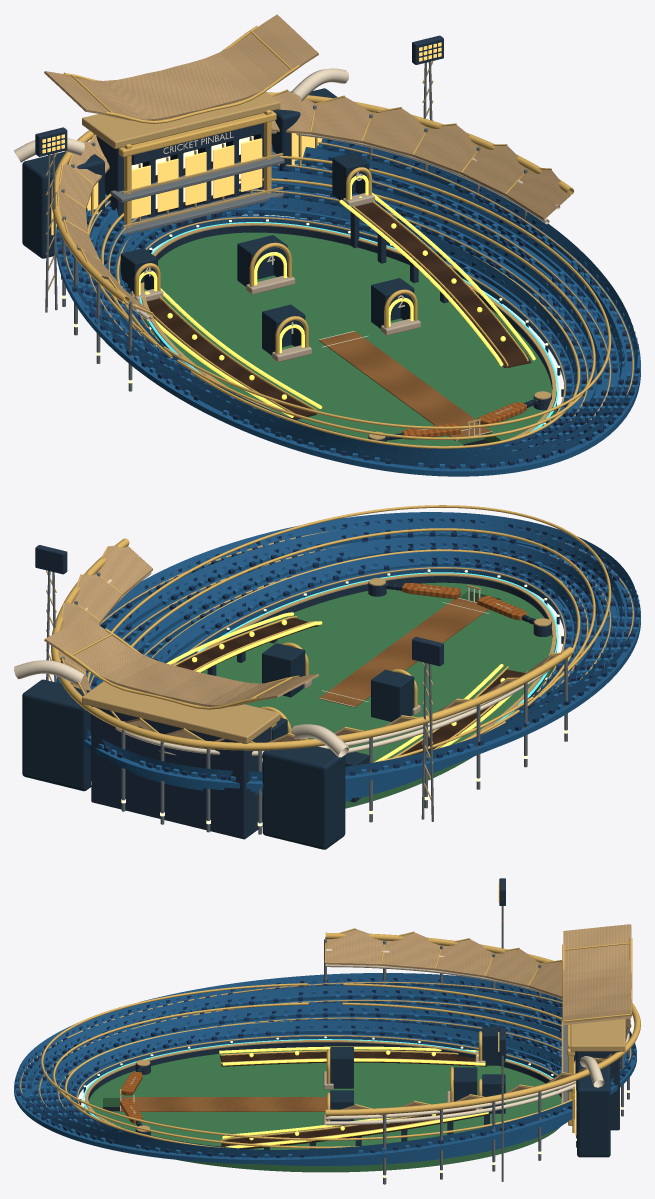
The model's file is cricket-stadium-colosseum-r8.glb.
The picture shows the model from 3 angles, top to bottom: view 1: azimuth 30°, elevation 25°; view 2: azimuth 150°, elevation 25°; view 3: azimuth 270°, elevation 25°; orthographic projection. The views are drawn at different scales.
Parts seen in each view (by area): view 1: Arena_Field_Substrate, Pavilion_Sculpted_Canopy, Individual_Seats_0, Individual_Seats_1, Crowd_Band_09, Seating_Terrace_09, Crowd_Band_04, Crowd_Band_07, Crowd_Band_01, Measured_Pitch, R7_Six_Lane_Surface, Pavilion_Cornice (+52 smaller); view 2: Arena_Field_Substrate, Pavilion_Shell, Crowd_Band_09, Pavilion_Sculpted_Canopy, R7_Pavilion_Wing_Mass_-1, Individual_Seats_1, Individual_Seats_0, R7_Pavilion_Wing_Mass_1, Crowd_Band_07, Crowd_Band_04, R7_Upper_Fascia_2, Pavilion_Cornice (+38 smaller); view 3: Arena_Field_Substrate, Crowd_Band_09, Pavilion_Sculpted_Canopy, Crowd_Band_07, Individual_Seats_0, Crowd_Band_04, Individual_Seats_1, Seating_Terrace_09, Crowd_Band_01, R7_Upper_Fascia_2, R7_Tier_Rail_2, Measured_Pitch (+39 smaller).
Part boxes in pixels (x1=…): Arena_Field_Substrate: x1=142, y1=232, x2=556, y2=446; Pavilion_Sculpted_Canopy: x1=44, y1=14, x2=318, y2=120; Individual_Seats_0: x1=56, y1=141, x2=639, y2=469; Individual_Seats_1: x1=56, y1=139, x2=639, y2=469; Crowd_Band_09: x1=59, y1=138, x2=637, y2=468; Seating_Terrace_09: x1=56, y1=144, x2=640, y2=476; Crowd_Band_04: x1=97, y1=170, x2=599, y2=455; Crowd_Band_07: x1=78, y1=143, x2=622, y2=459; Crowd_Band_01: x1=119, y1=197, x2=576, y2=451; Measured_Pitch: x1=319, y1=331, x2=491, y2=440; R7_Six_Lane_Surface: x1=352, y1=202, x2=531, y2=367; Pavilion_Cornice: x1=82, y1=92, x2=280, y2=148; Arena_Field_Substrate: x1=201, y1=582, x2=556, y2=808; Pavilion_Shell: x1=91, y1=706, x2=271, y2=839; Crowd_Band_09: x1=59, y1=512, x2=637, y2=780; Pavilion_Sculpted_Canopy: x1=44, y1=617, x2=318, y2=706; R7_Pavilion_Wing_Mass_-1: x1=262, y1=746, x2=345, y2=849; Individual_Seats_1: x1=56, y1=518, x2=640, y2=781; Individual_Seats_0: x1=57, y1=518, x2=640, y2=781; R7_Pavilion_Wing_Mass_1: x1=22, y1=679, x2=91, y2=791; Crowd_Band_07: x1=106, y1=522, x2=622, y2=730; Crowd_Band_04: x1=102, y1=536, x2=599, y2=735; R7_Upper_Fascia_2: x1=51, y1=538, x2=573, y2=750; Pavilion_Cornice: x1=82, y1=681, x2=280, y2=743; Arena_Field_Substrate: x1=84, y1=1049, x2=561, y2=1172; Crowd_Band_09: x1=16, y1=973, x2=634, y2=1157; Pavilion_Sculpted_Canopy: x1=563, y1=924, x2=631, y2=1025; Crowd_Band_07: x1=29, y1=985, x2=620, y2=1149; Individual_Seats_0: x1=15, y1=978, x2=635, y2=1158; Crowd_Band_04: x1=48, y1=1002, x2=561, y2=1149; Individual_Seats_1: x1=15, y1=978, x2=635, y2=1157; Seating_Terrace_09: x1=14, y1=983, x2=636, y2=1164; Crowd_Band_01: x1=67, y1=1020, x2=561, y2=1149; R7_Upper_Fascia_2: x1=325, y1=932, x2=640, y2=1115; R7_Tier_Rail_2: x1=41, y1=983, x2=574, y2=1140; Measured_Pitch: x1=120, y1=1097, x2=326, y2=1111.
Bounding box in the file's own units: 11.2 × 4.56 × 16.51.
23 materials, 4 textured.
